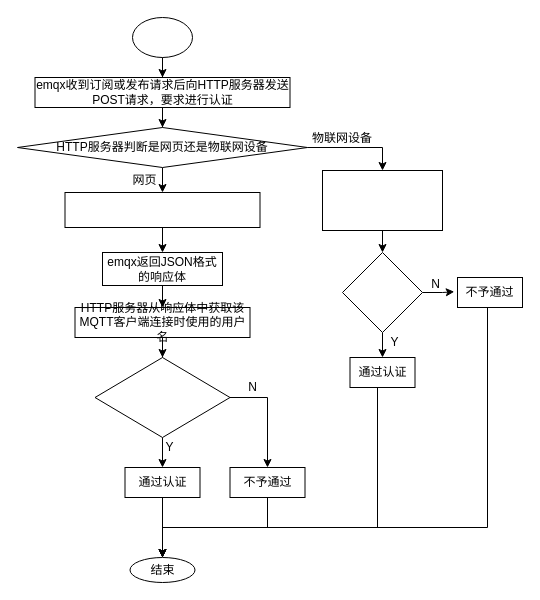
Image size: 540x600. Some labels were removed from this diagram. The shapes that lost their labels are listed below. From the top down, each one's box as (x1, y1, x2, y2) in pixels, then its label:
(132, 16, 192, 58): 开始
(64, 192, 260, 228): 向emqx发送POST请求，要求查询该MQTT客户端的信息
(322, 170, 442, 230): HTTP服务器从POST请求体的JSON中获取客户端ID和该客户端要订阅或发布的主题
(342, 252, 422, 332): 要订阅或发布的主题的第一个子主题为该客户端的客户端ID
(94, 356, 230, 438): 查询数据库，该用户名下是否存在它要客场接收或客场发布的设备
